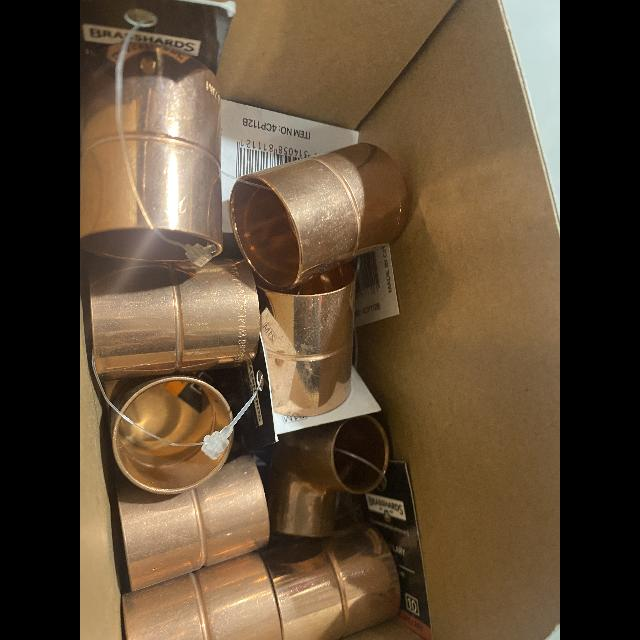Copper: (230, 143, 409, 293), (80, 45, 185, 265), (122, 43, 221, 256), (117, 455, 269, 591), (89, 259, 259, 380), (260, 523, 400, 640), (259, 263, 356, 419), (269, 416, 389, 537), (122, 552, 282, 640), (112, 412, 234, 494), (117, 376, 233, 443)
